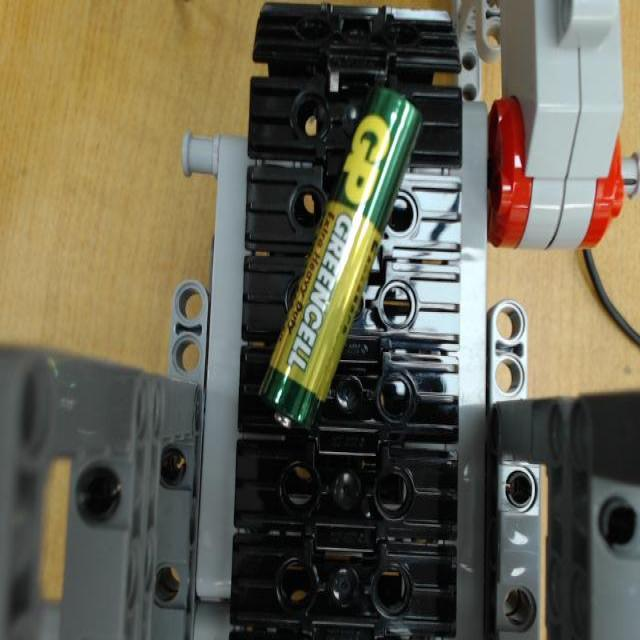AAA: (261, 85, 418, 430)
